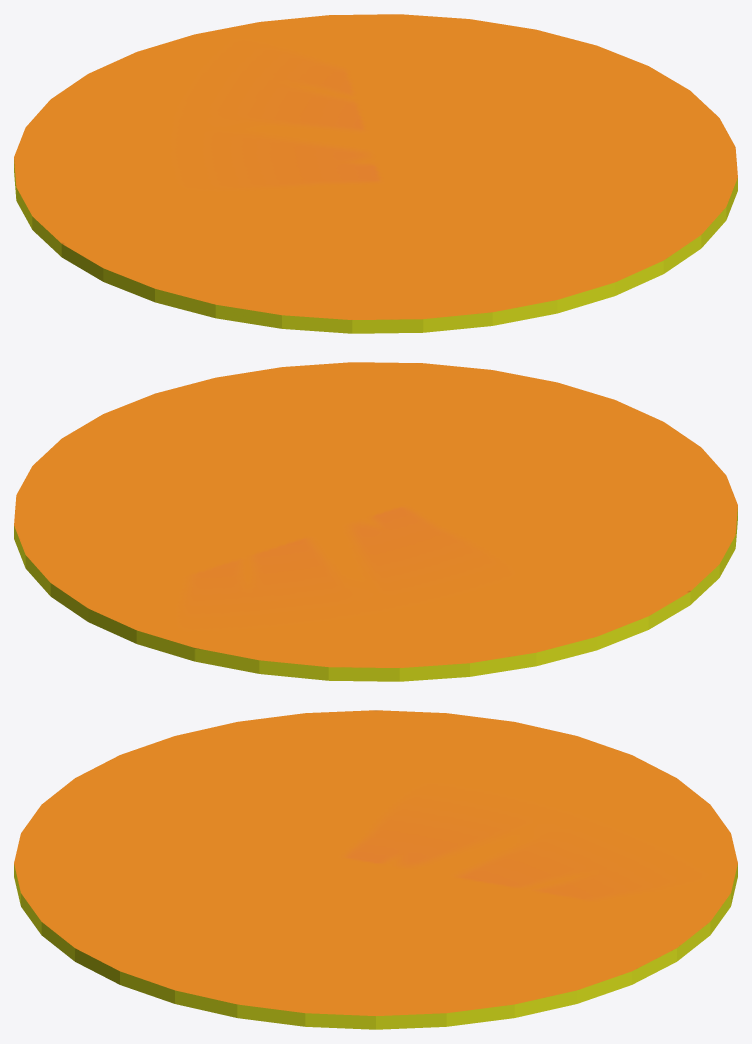
File: Floor_2.obj
The picture shows the model from 3 angles, top to bottom: view 1: azimuth 30°, elevation 25°; view 2: azimuth 150°, elevation 25°; view 3: azimuth 270°, elevation 25°; orthographic projection.
Parts seen in each view (by area): view 1: Floor_2_Cylinder.004; view 2: Floor_2_Cylinder.004; view 3: Floor_2_Cylinder.004.
Boxes of the visible parts, x1,y1,x2,y2 form: Floor_2_Cylinder.004: [14, 14, 737, 333]; Floor_2_Cylinder.004: [14, 362, 737, 681]; Floor_2_Cylinder.004: [14, 710, 737, 1029].
Size of the model in its own units: 3.83 by 0.0795 by 3.83.
